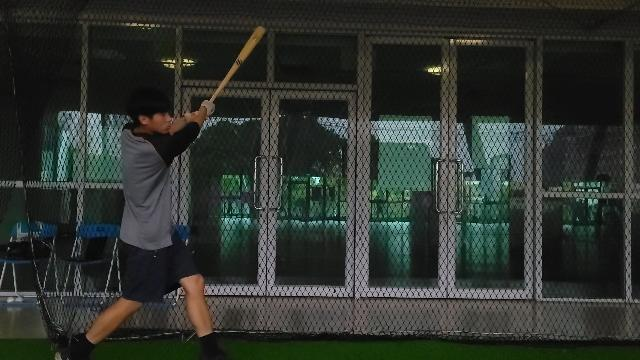baseball bat: (210, 22, 268, 102)
